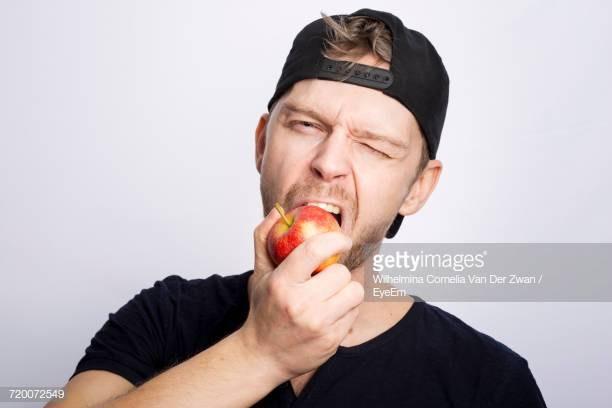eating: (224, 9, 482, 293)
